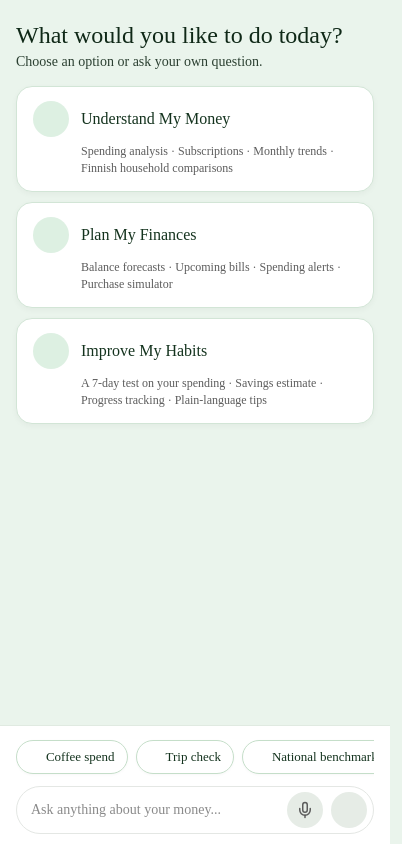
chat › an example chip sends its question as a message
The image size is (402, 844).
Click the text "Coffee spend": (80, 757) [46, 749, 115, 765]
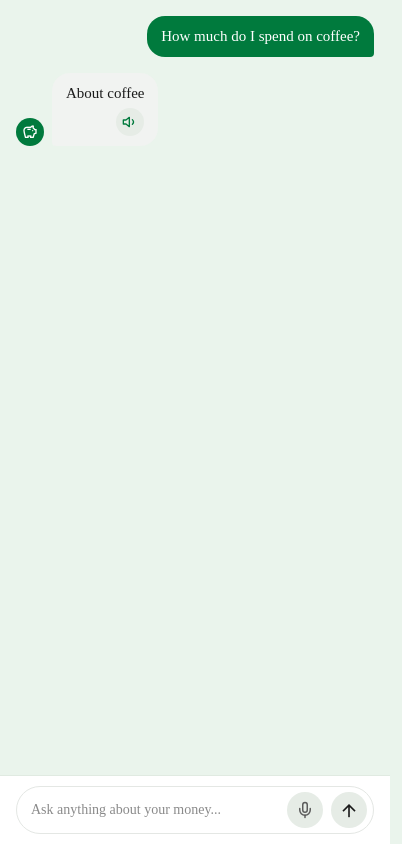
Check: the text "About coffee" is shown, box [66, 83, 144, 104]
